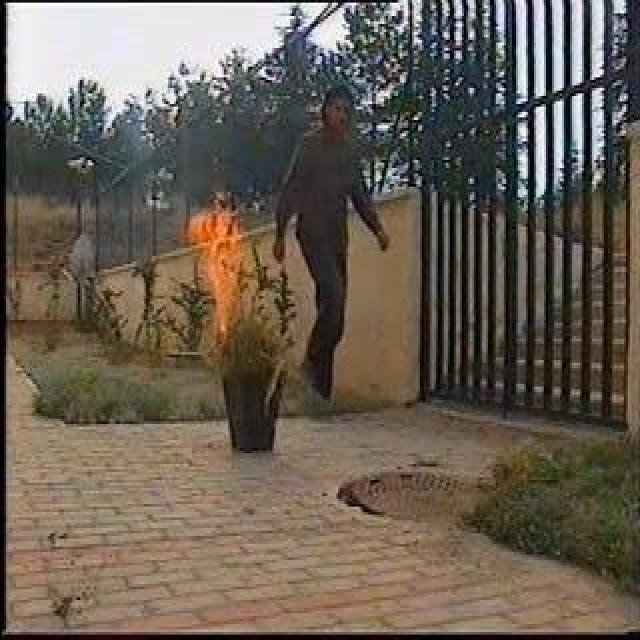Fire: (187, 178, 253, 330)
